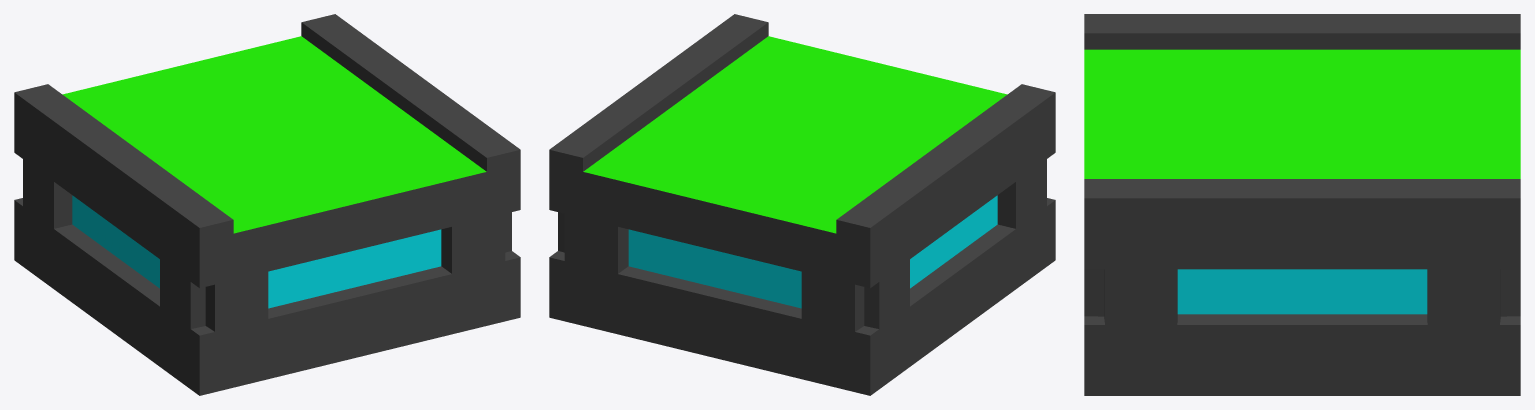
File: Platform I.fbx
3 renders of one model, left to right at view 1: azimuth 30°, elevation 25°; view 2: azimuth 150°, elevation 25°; view 3: azimuth 270°, elevation 25°, orthographic. The views are drawn at different scales.
Parts seen in each view (by area): view 1: Platform I; view 2: Platform I; view 3: Platform I.
Boxes of the visible parts, bbox=[...] form: Platform I: bbox=[14, 14, 520, 395]; Platform I: bbox=[549, 14, 1055, 395]; Platform I: bbox=[1084, 14, 1520, 395].
Bounding box in the file's own units: 200 × 99.98 × 200.
